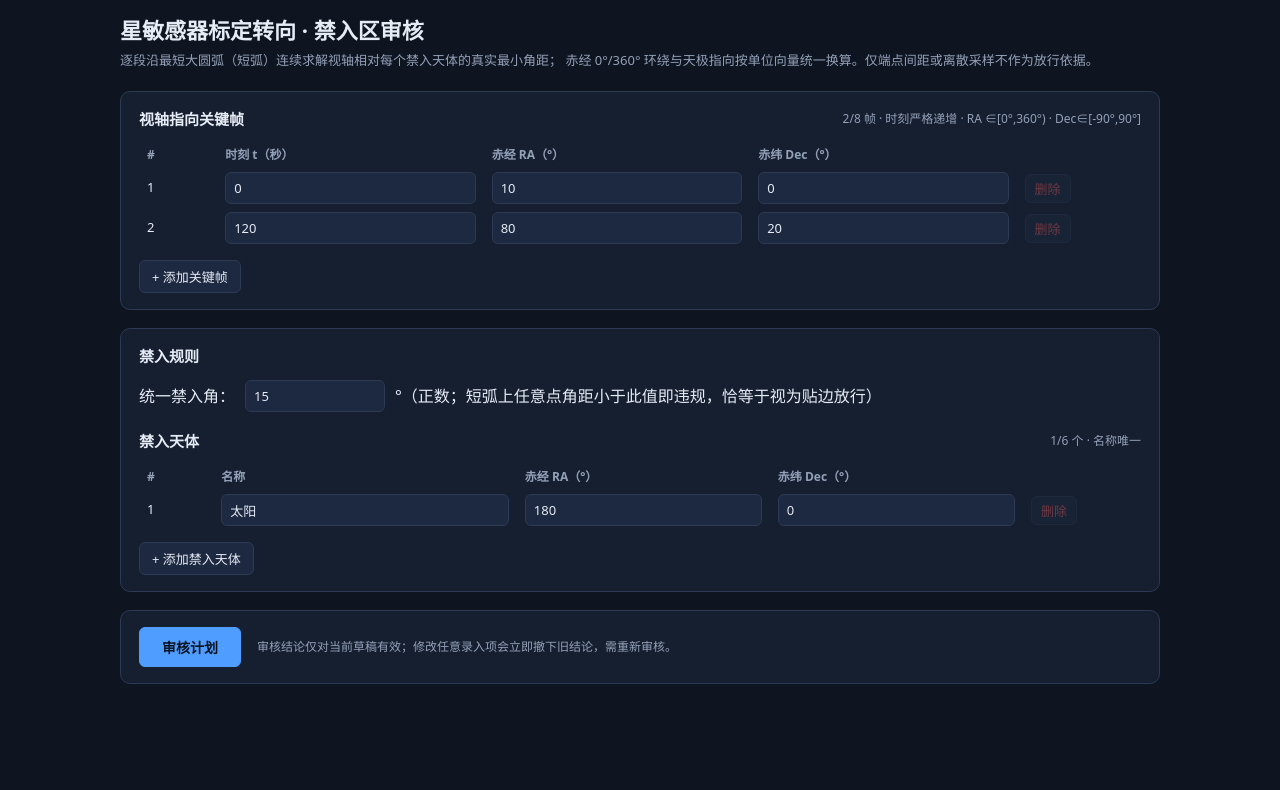
Test case: App：录入与审核流程 › 默认安全草稿：审核后明确显示可执行与逐段最小角距
The width and height of the screenshot is (1280, 790).
Click the button with test id "audit-button" at (190,647), box 139,627 -> 241,667
(page scrolled)
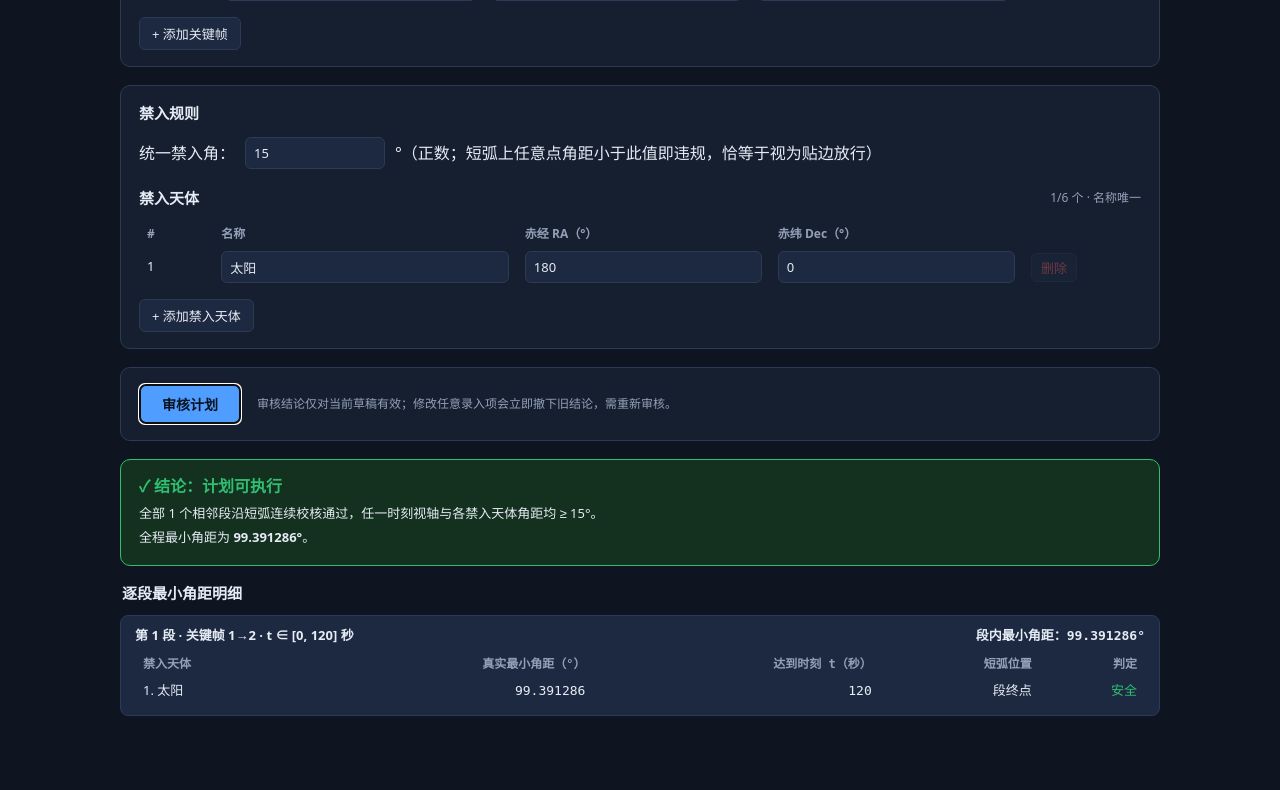
Result: the element with test id "verdict-pass" is shown at 120,459 -> 1160,566
Result: the heading "✓ 结论：计划可执行" is shown at 139,475 -> 282,497
Result: the text "第 1 段 · 关键帧 1→2 · t ∈ [0, 120] 秒" is shown at 135,626 -> 354,645
